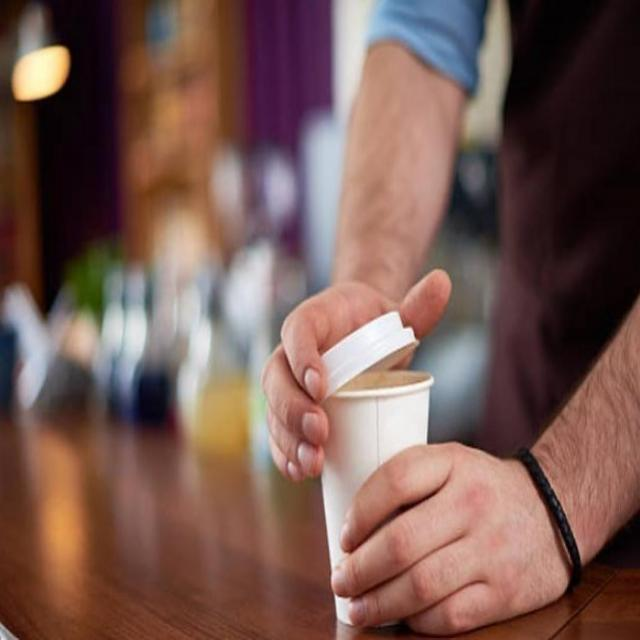cup-disposable: (315, 318, 443, 632)
